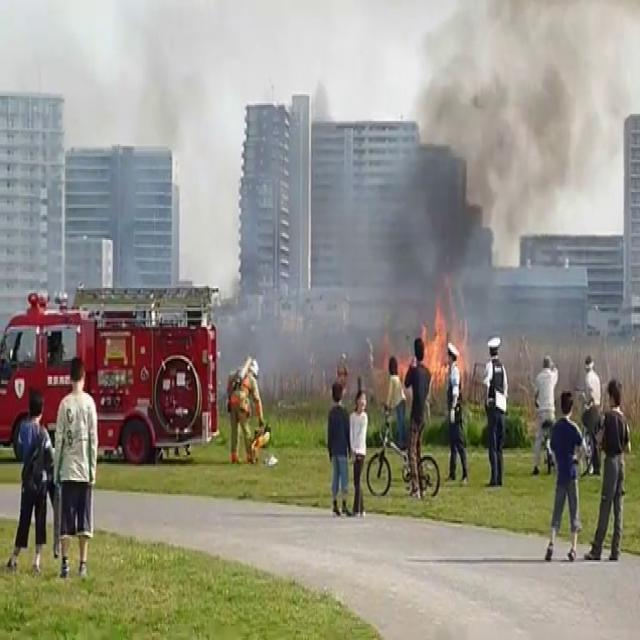Fire: (408, 298, 464, 385)
Smoke: (242, 0, 634, 352)
